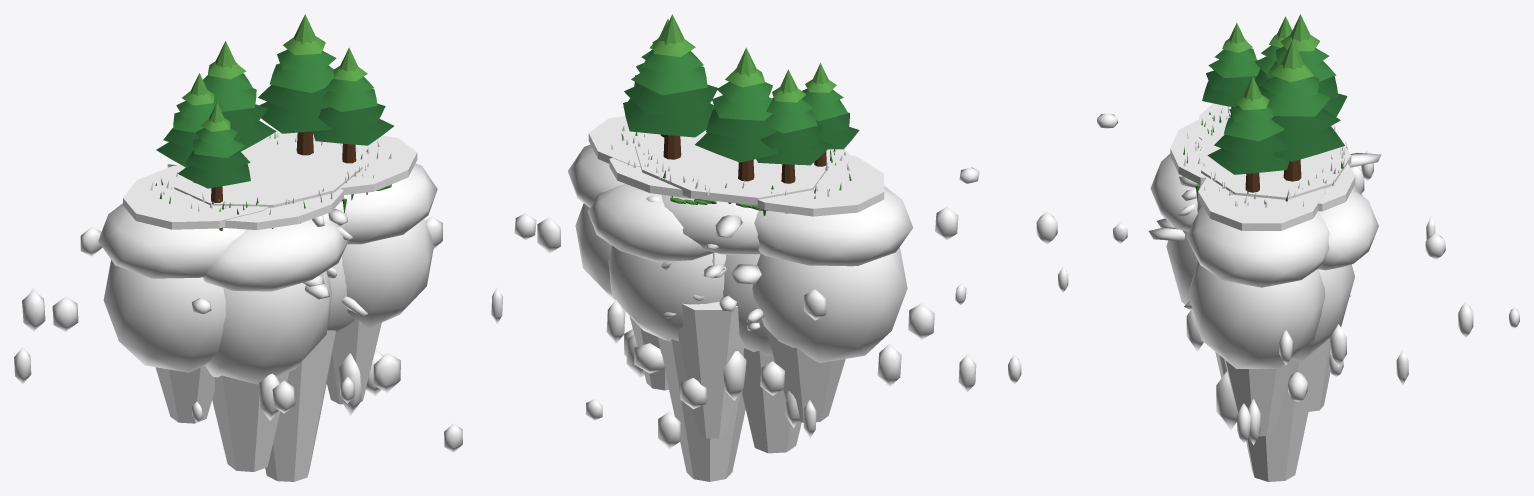
File: CHAIN_RUSH_SKYBOUND_CLIFF_V5_LITE.glb
3 renders of one model, left to right at view 1: azimuth 30°, elevation 25°; view 2: azimuth 150°, elevation 25°; view 3: azimuth 270°, elevation 25°, orthographic. The views are drawn at different scales.
Visible parts, largest first — view 1: CliffFace_0, CliffFace_1, Crown_3, GrassPlateau_1, CliffFace_3, Crown_0, UnderRock_2, UnderRock_1, Crown_2, GrassPlateau_0, GrassPlateau_2, UnderRock_0 (+31 smaller); view 2: CliffFace_0, Crown_0, GrassPlateau_1, CliffFace_2, UnderRock_4, Crown_4, UnderRock_2, GrassPlateau_0, UnderRock_1, Crown_1, UnderRock_0, CliffFace_1 (+31 smaller); view 3: CliffFace_3, Crown_2, UnderRock_2, GrassPlateau_1, GrassPlateau_2, Crown_4, UnderRock_3, CliffFace_2, Crown_3, GrassPlateau_3, LITEPINE_2_FOLIAGE_0, LITEPINE_3_FOLIAGE_0 (+14 smaller).
Part boxes in pixels (x1,y1,x2,y2): CliffFace_0: [103, 260, 225, 372]; CliffFace_1: [205, 271, 332, 384]; Crown_3: [203, 219, 348, 291]; GrassPlateau_1: [174, 135, 362, 207]; CliffFace_3: [342, 218, 433, 328]; Crown_0: [98, 194, 245, 278]; UnderRock_2: [265, 330, 335, 481]; UnderRock_1: [212, 370, 289, 471]; Crown_2: [342, 163, 437, 244]; GrassPlateau_0: [123, 165, 268, 229]; GrassPlateau_2: [313, 135, 417, 195]; UnderRock_0: [155, 365, 214, 423]; CliffFace_0: [752, 247, 907, 362]; Crown_0: [754, 179, 913, 266]; GrassPlateau_1: [635, 130, 828, 205]; CliffFace_2: [608, 245, 726, 341]; UnderRock_4: [677, 301, 744, 438]; Crown_4: [587, 184, 714, 262]; UnderRock_2: [658, 337, 745, 481]; GrassPlateau_0: [752, 149, 884, 216]; UnderRock_1: [742, 348, 801, 453]; Crown_1: [661, 194, 762, 254]; UnderRock_0: [767, 330, 845, 422]; CliffFace_1: [723, 254, 773, 356]; CliffFace_3: [1188, 261, 1325, 368]; Crown_2: [1186, 206, 1329, 287]; UnderRock_2: [1246, 344, 1322, 481]; GrassPlateau_1: [1201, 124, 1351, 199]; GrassPlateau_2: [1198, 177, 1324, 230]; Crown_4: [1318, 190, 1378, 270]; UnderRock_3: [1224, 357, 1293, 436]; CliffFace_2: [1292, 264, 1354, 360]; Crown_3: [1150, 154, 1197, 231]; GrassPlateau_3: [1170, 119, 1206, 185]; LITEPINE_2_FOLIAGE_0: [1273, 126, 1344, 161]; LITEPINE_3_FOLIAGE_0: [1207, 148, 1289, 174].
Size of the model in its own units: 24.82 by 24.76 by 25.75.
